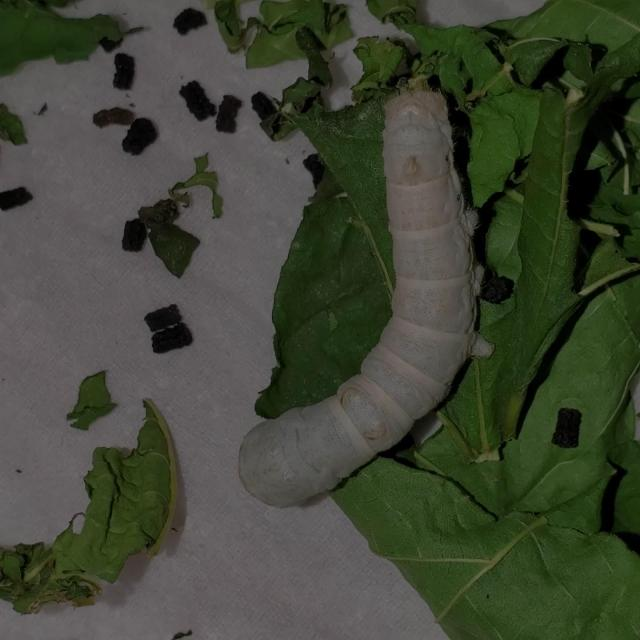Healthy: (221, 55, 532, 542)
